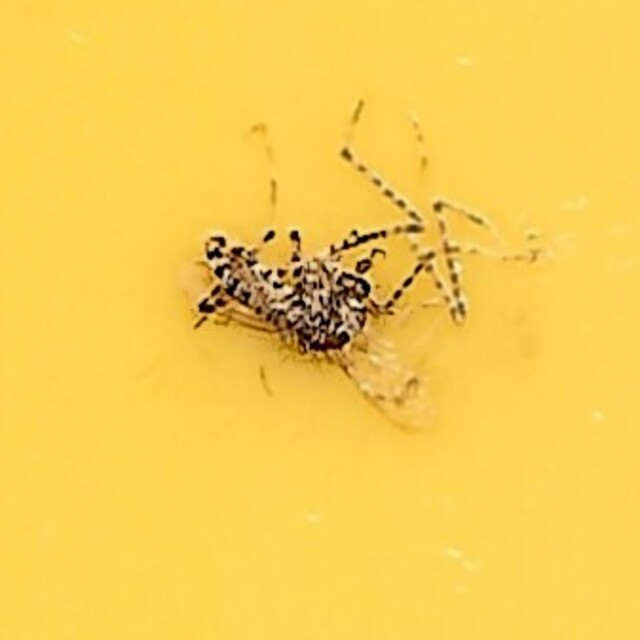Nematocera: (190, 204, 450, 436)
